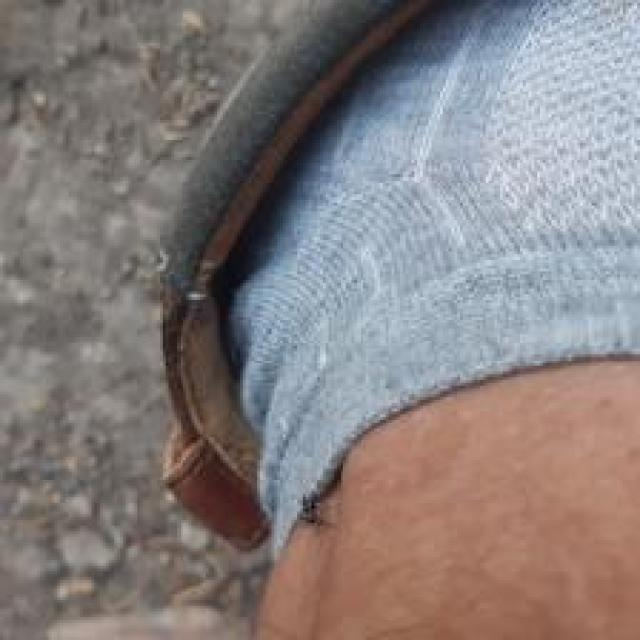Aedes albopictus: (156, 0, 638, 640)
